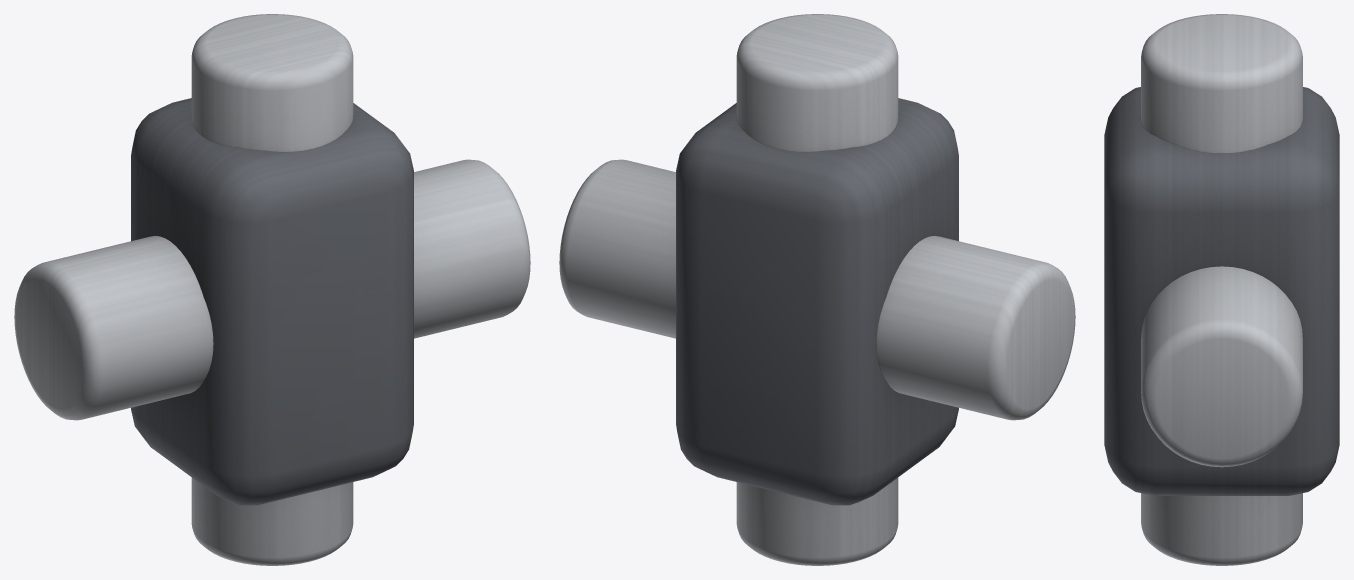
The model's file is left_ankle.obj.
3 renders of one model, left to right at view 1: azimuth 30°, elevation 25°; view 2: azimuth 150°, elevation 25°; view 3: azimuth 270°, elevation 25°, orthographic.
Visible parts, largest first — view 1: left_ankle; view 2: left_ankle; view 3: left_ankle.
Boxes of the visible parts, <box> form: left_ankle: <box>14,14,530,565</box>; left_ankle: <box>559,14,1075,565</box>; left_ankle: <box>1104,14,1339,565</box>.
Bounding box in the file's own units: 0.07 × 0.074 × 0.032.
1 material, 1 textured.
